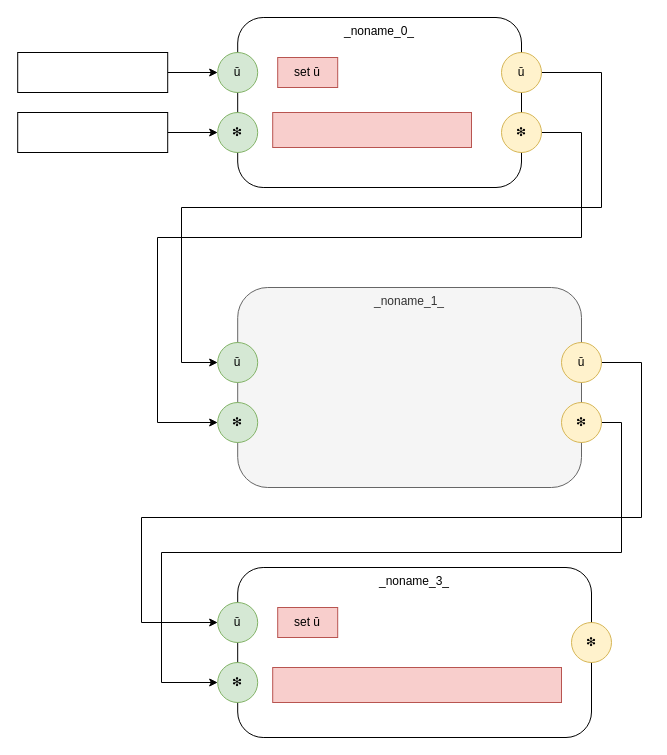
Image size: 667x755. Some labels were removed from this diagram. The shapes that lost their labels are listed below. From the top down, each one's centre as x and y in pixels, then its label:
(92,72): {input-ports, output-ports}
(92,132): true
(372,130): ❮ delete all files in "/tmp/target" ❯
(417,684): ❮ rename " /tmp/target/XYZ.md" " /tmp/target/xyz.md" ❯
